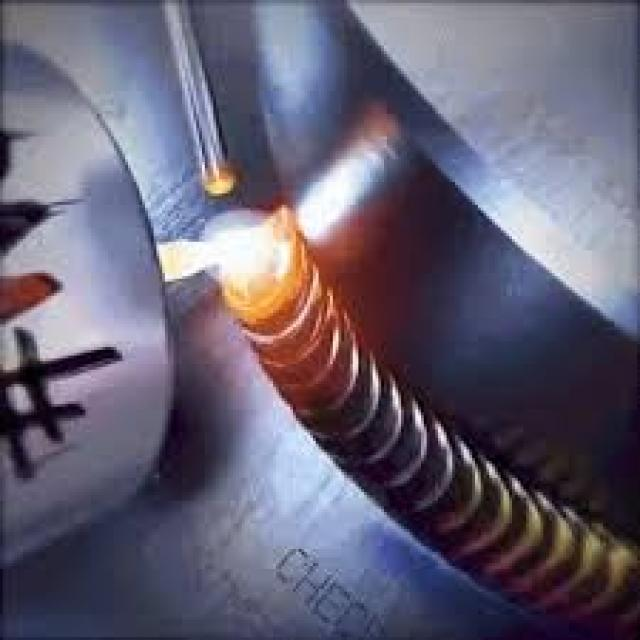welding: (192, 206, 284, 280)
